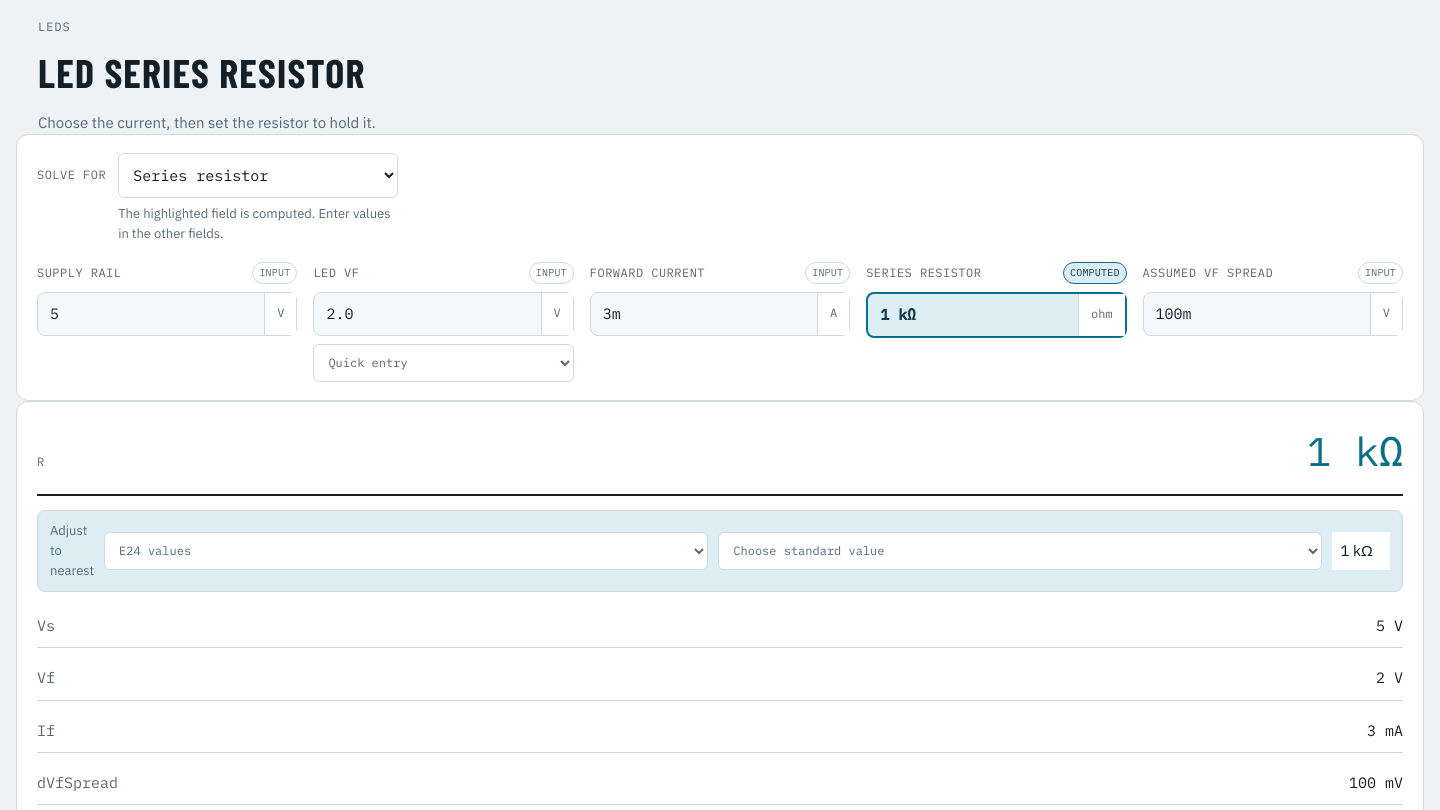
Test: LedResistorView › shows the Vf preset picker and applies a preset
The width and height of the screenshot is (1440, 810).
Select "Blue / white (3.2 V)" in the dropdown named "Quick LED Vf preset" at (444, 363), box [313,344,574,382]
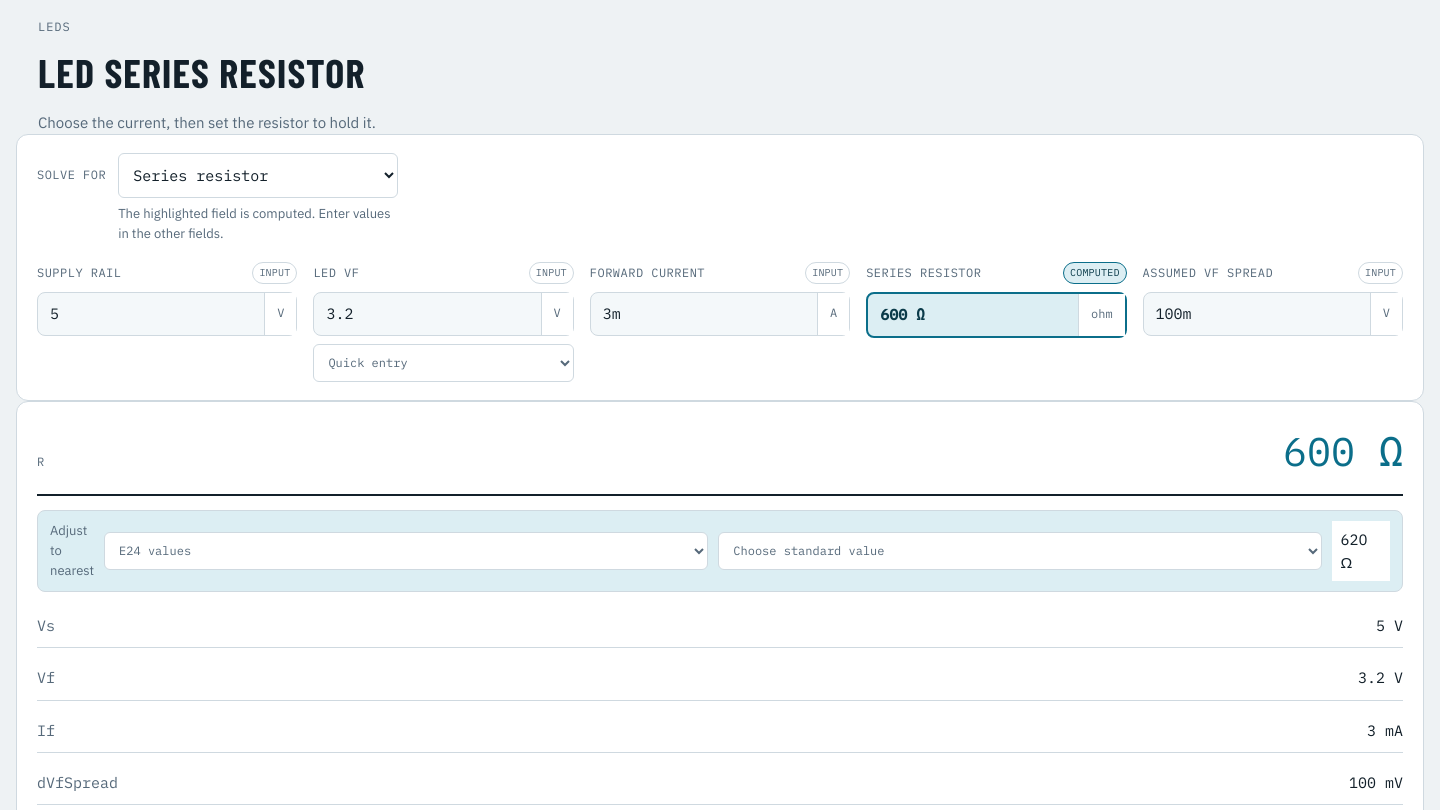
expect the field labelled "LED Vf" holds "3.2": met, box [314,293,541,335]
